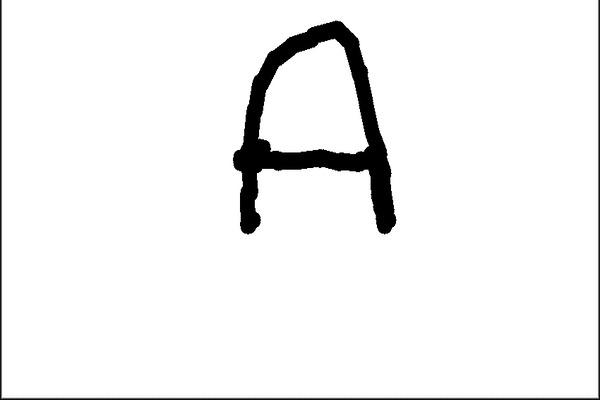A: (217, 13, 404, 244)
